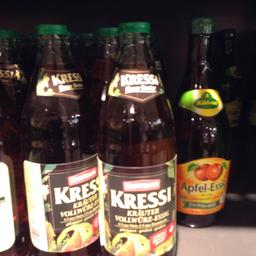vinegar: (18, 24, 100, 254), (100, 22, 178, 255), (177, 14, 230, 228)
